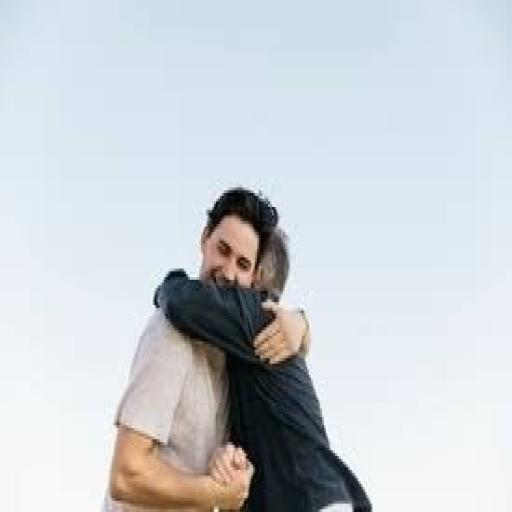hugging: (101, 185, 374, 509)
